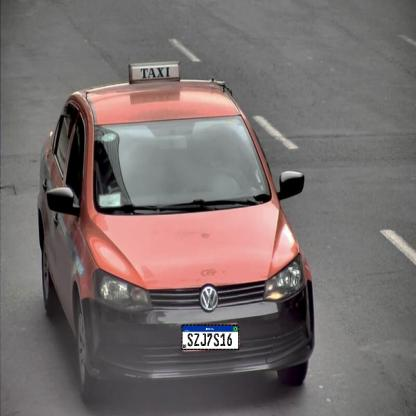PlacaM: (182, 325, 239, 350)
